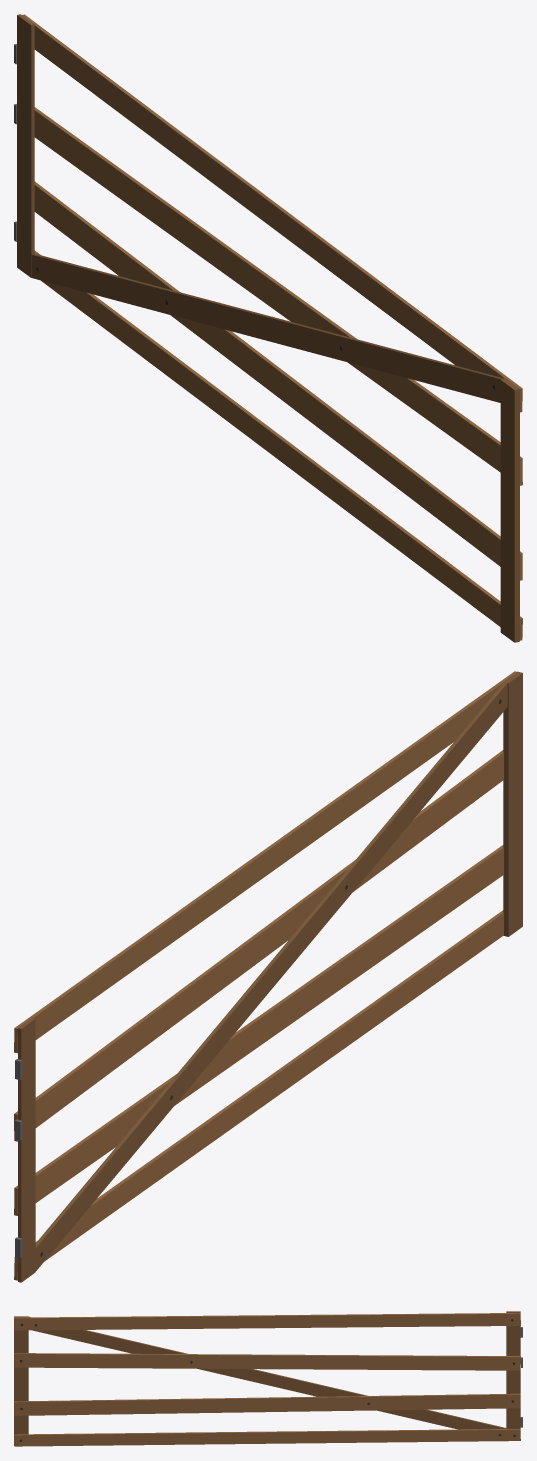
Rendered from fencegater.glb.
The picture shows the model from 3 angles, top to bottom: view 1: azimuth 30°, elevation 25°; view 2: azimuth 150°, elevation 25°; view 3: azimuth 270°, elevation 25°; orthographic projection. The views are drawn at different scales.
Parts seen in each view (by area): view 1: Cube.011, Cube.006, Cube.005, Cube.016, Cube.002, Cube.012, Cube.014; view 2: Cube.016, Cube.011, Cube.005, Cube.006, Cube.002, Cube.012, Cube.014; view 3: Cube.011, Cube.006, Cube.005, Cube.002, Cube.016, Cube.012, Cube.014.
Part boxes in pixels (x1,y1,x2,y2): Cube.011: (34,181,522,580); Cube.006: (34,107,522,485); Cube.005: (22,14,522,412); Cube.016: (31,254,504,402); Cube.002: (34,250,522,640); Cube.012: (500,378,519,642); Cube.014: (17,14,34,277); Cube.016: (35,682,507,1271); Cube.011: (14,845,503,1215); Cube.005: (14,671,516,1053); Cube.006: (14,750,503,1141); Cube.002: (14,910,503,1280); Cube.012: (503,671,522,936); Cube.014: (18,1017,35,1282); Cube.011: (14,1393,520,1415); Cube.006: (14,1353,520,1370); Cube.005: (14,1313,520,1330); Cube.002: (14,1429,520,1446); Cube.016: (29,1316,506,1429); Cube.012: (14,1316,28,1445); Cube.014: (506,1311,520,1431).
Bounding box in the file's own units: 0.0544 × 1.42 × 4.92.
